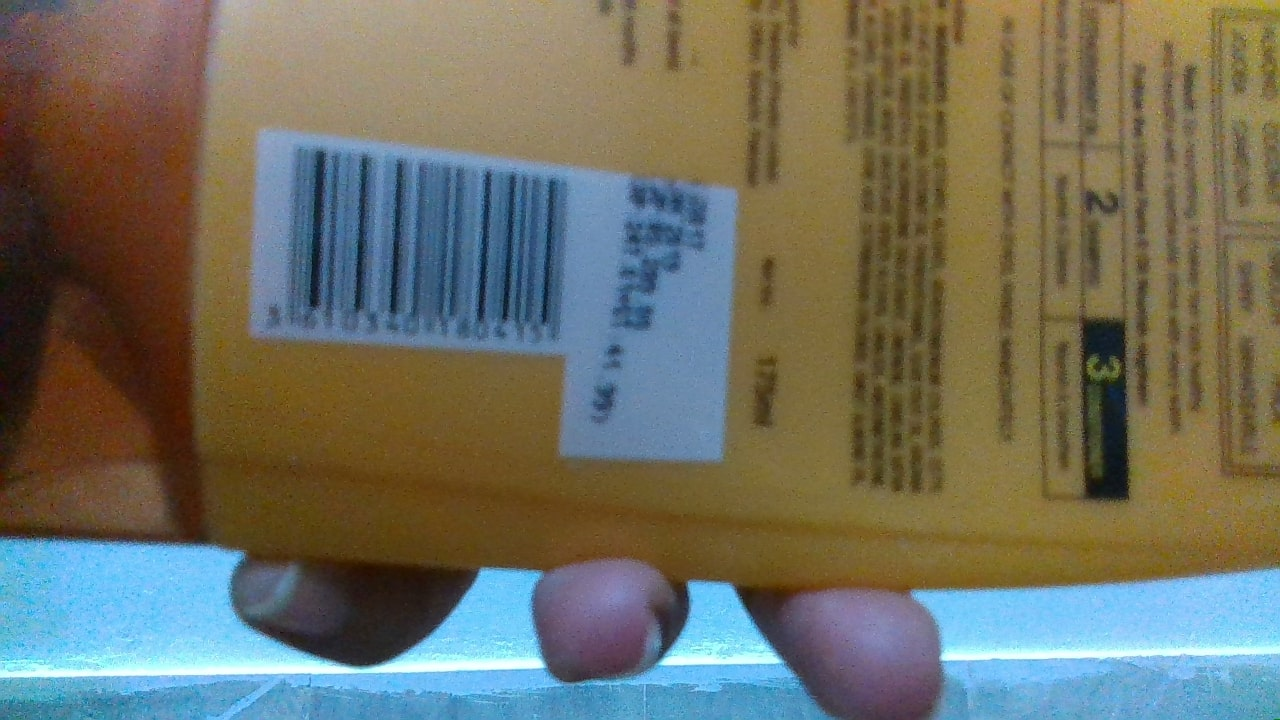Barcode: (282, 138, 568, 349)
